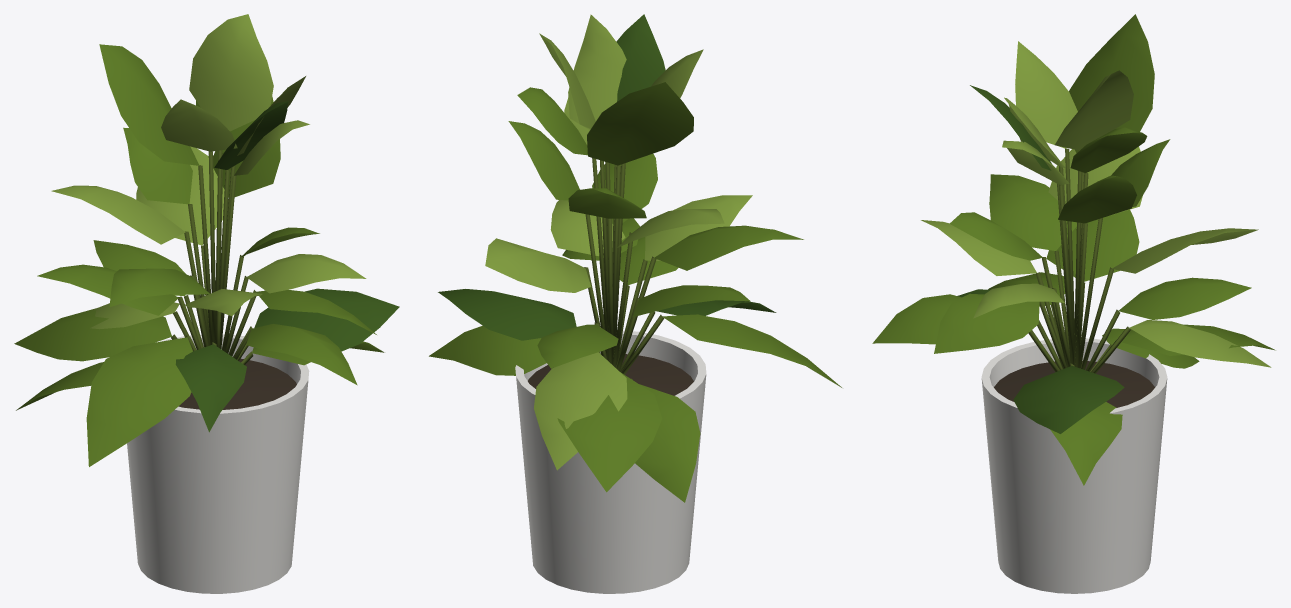
The model's file is greenery.plant.glb.
3 views of the same model, side by side, from view 1: azimuth 30°, elevation 25°; view 2: azimuth 150°, elevation 25°; view 3: azimuth 270°, elevation 25° (orthographic). The views are drawn at different scales.
Parts seen in each view (by area): view 1: greenery.plant.001; view 2: greenery.plant.001; view 3: greenery.plant.001.
Part boxes in pixels (x1,y1,x2,y2): greenery.plant.001: (14, 14, 399, 593); greenery.plant.001: (429, 14, 841, 593); greenery.plant.001: (872, 14, 1275, 593).
Bounding box in the file's own units: 0.3 × 0.42 × 0.3.
